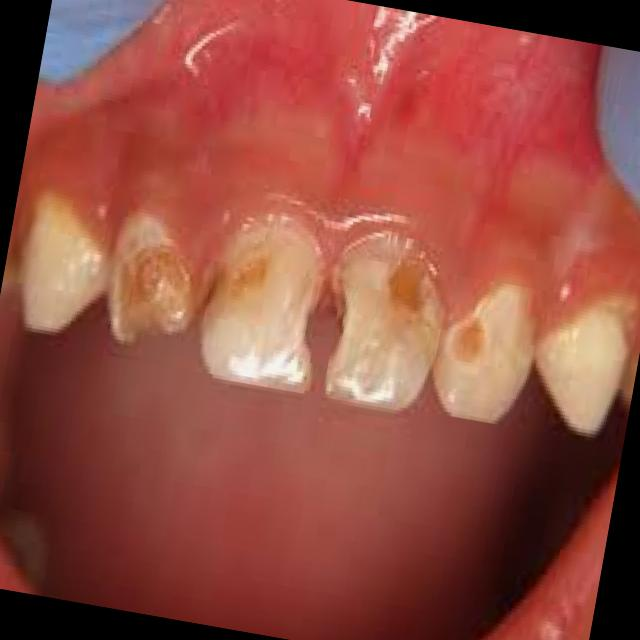caries: (84, 218, 210, 380), (328, 234, 448, 364)
